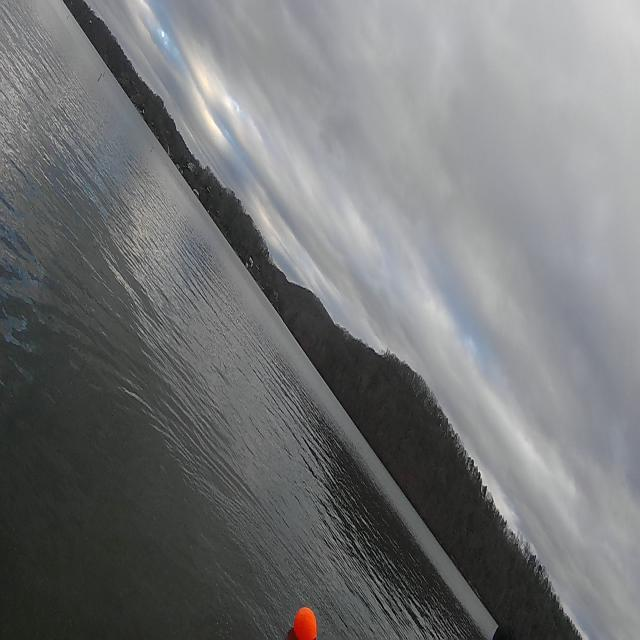Buoy: (292, 604, 318, 640)
